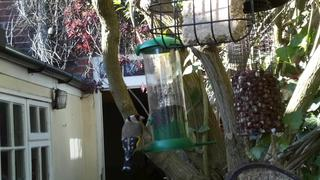goldfinch: (121, 114, 146, 171)
